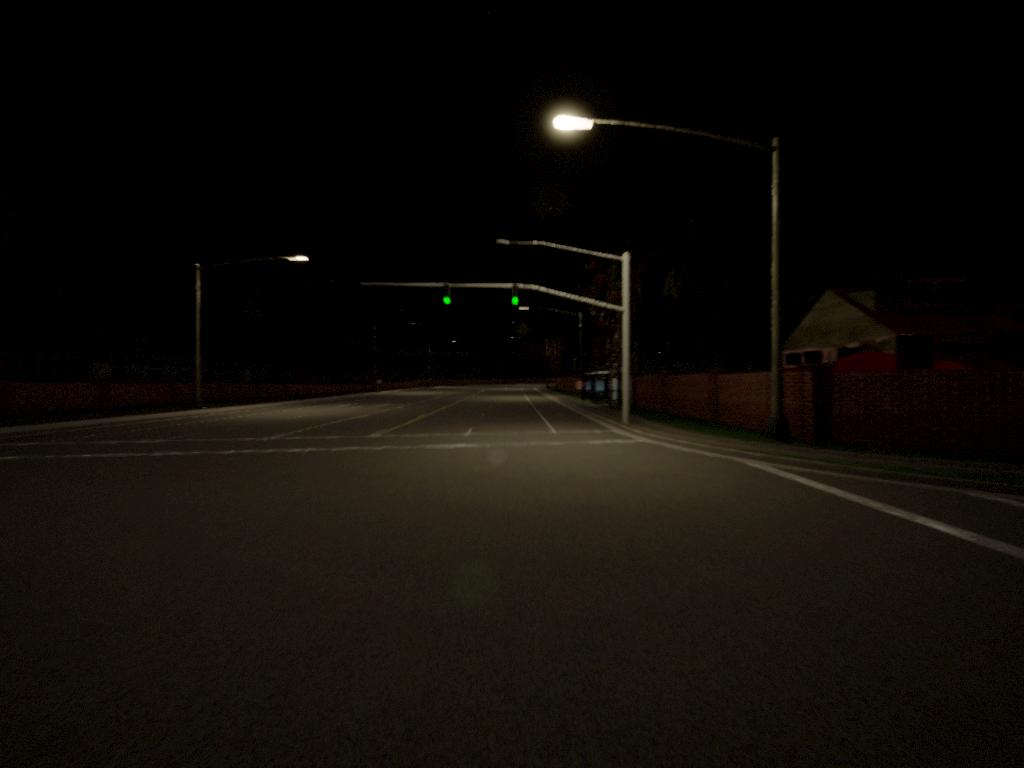traffic_light: (441, 291, 454, 308), (510, 291, 520, 308)
